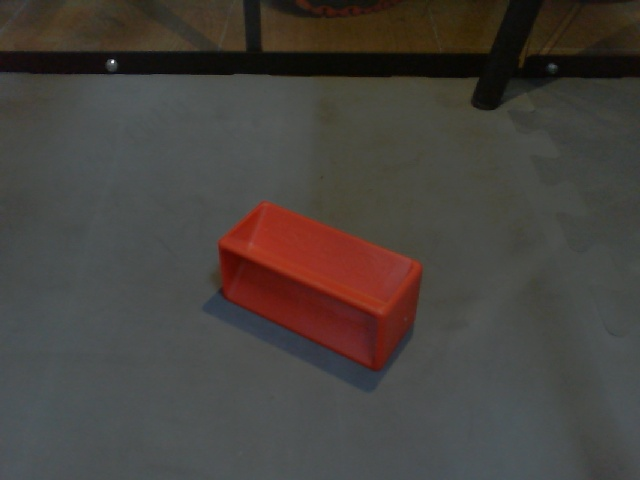RedSample: (216, 197, 423, 376)
